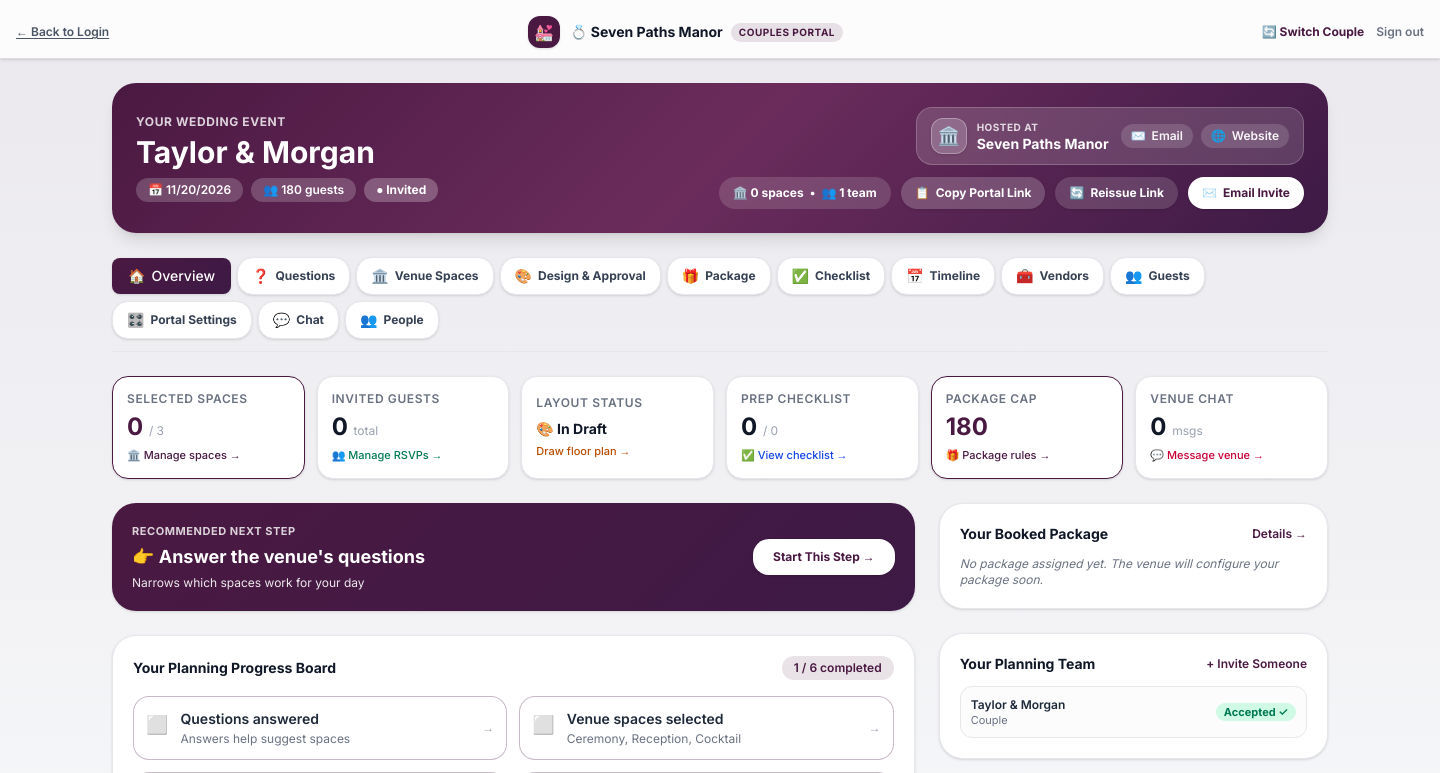
it: Comprehensive Platform Application & Functional Design Audit Part 2 (#154) › renders the Quick Guest List Search & Status Filter bar and filters by RSVP in CouplesPortal
Note: Switch to Guests & RSVPs tab
Click the tab "👥 Guests": click(1157, 276) [1110,257,1205,295]
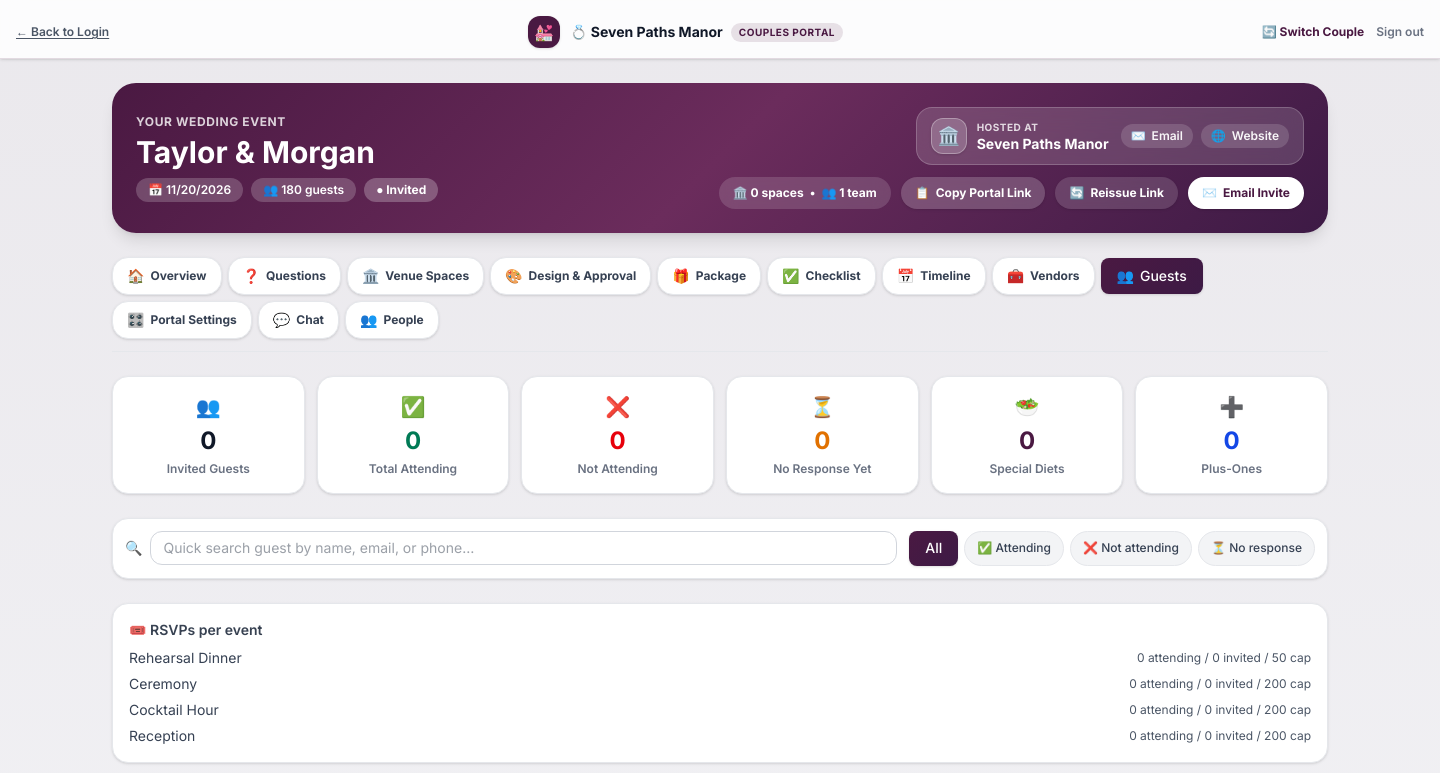
Expected: the search field with placeholder "Quick search guest by name, email, or phone…" is shown, [150,531,897,565]
Expected: the button "✅ Attending" is shown, [964,531,1064,566]
